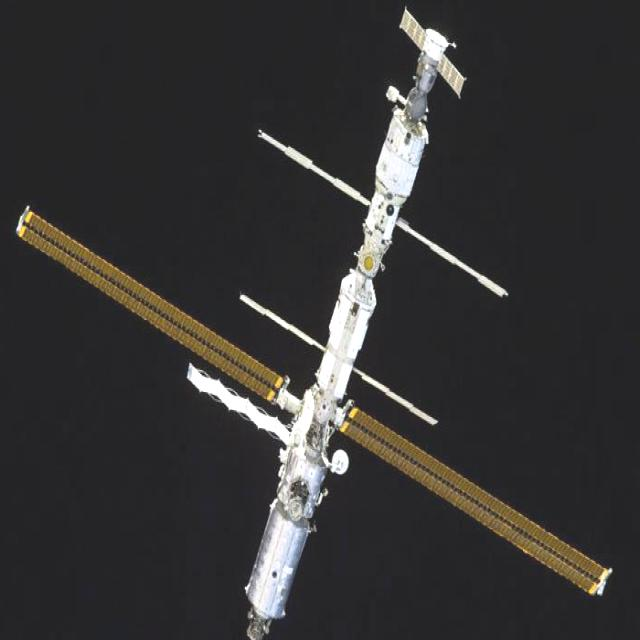satellite: (16, 22, 583, 640)
